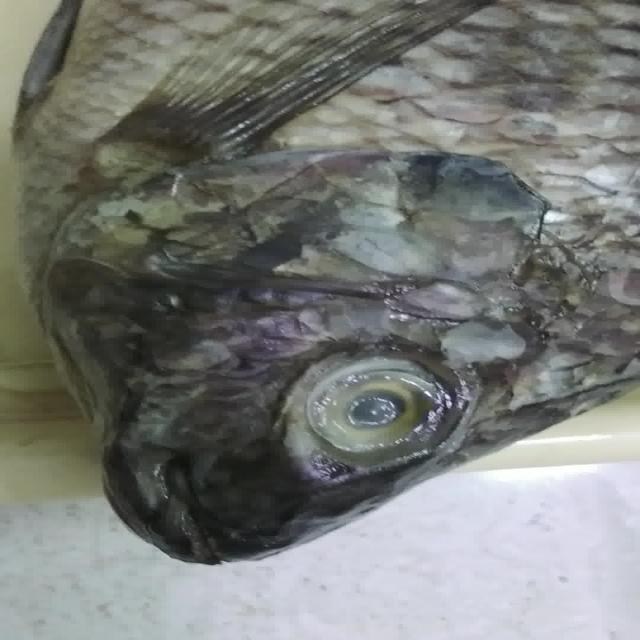Non-Fresh: (271, 339, 474, 470)
